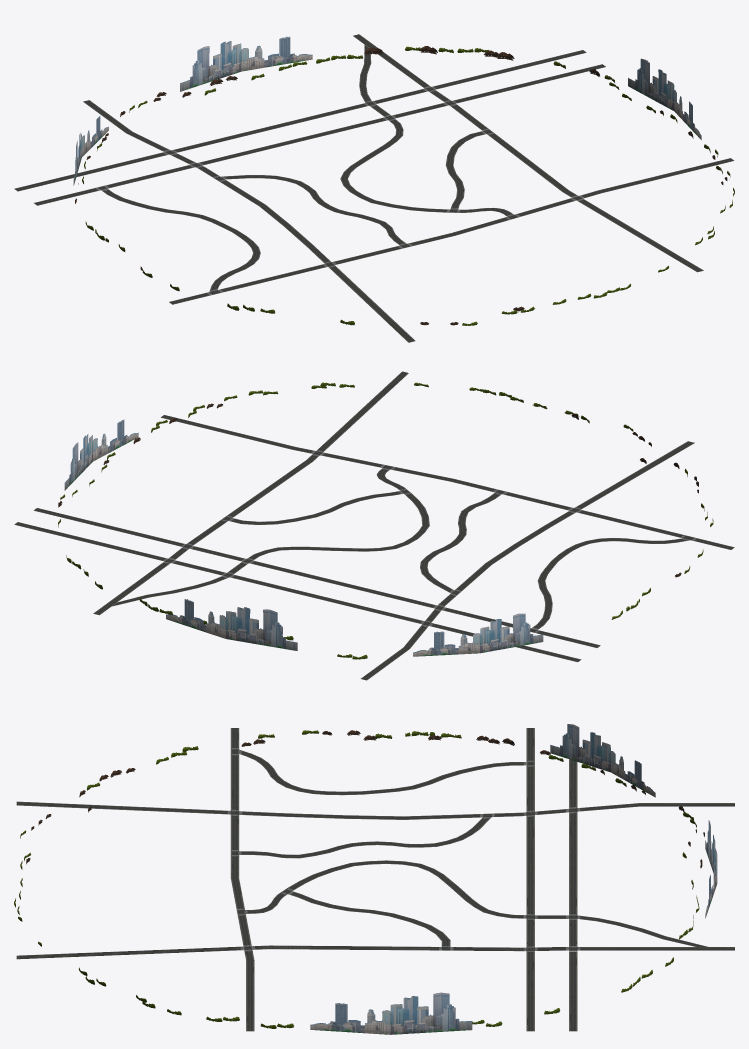
File: DiXing.FBX
3 renders of one model, top to bottom at view 1: azimuth 30°, elevation 25°; view 2: azimuth 150°, elevation 25°; view 3: azimuth 270°, elevation 25°, orthographic. The views are drawn at different scales.
Visible parts, largest first — view 1: daolu01, yuanjing02_d, Plane090, Plane067; view 2: daolu01, yuanjing02_d, Plane090; view 3: daolu01, yuanjing02_d, Plane090, Plane067.
Boxes of the visible parts, box(x1,y1,x2,y2) form: daolu01: box(14, 34, 734, 342); yuanjing02_d: box(73, 36, 701, 185); Plane090: box(82, 46, 734, 325); Plane067: box(75, 46, 727, 325); daolu01: box(14, 371, 734, 680); yuanjing02_d: box(64, 419, 543, 656); Plane090: box(58, 382, 713, 659); daolu01: box(16, 728, 734, 1031); yuanjing02_d: box(310, 724, 717, 1034); Plane090: box(14, 730, 699, 1028); Plane067: box(26, 730, 704, 868).
Size of the model in its own units: 169187 by 12691 by 168131.
